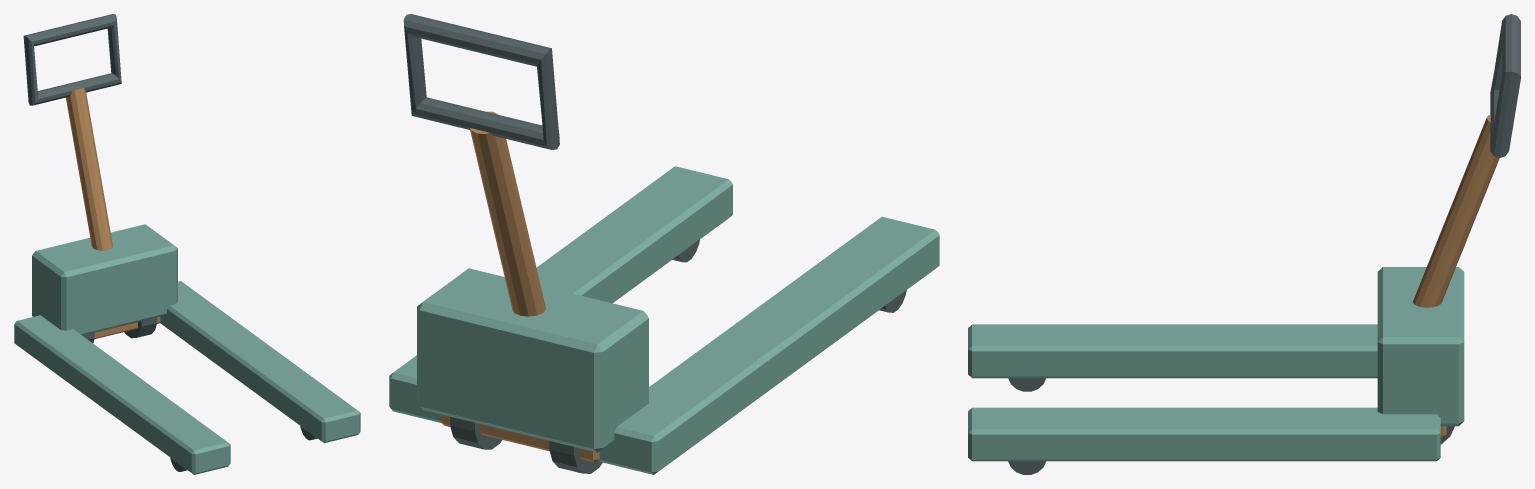
3 renders of one model, left to right at view 1: azimuth 30°, elevation 25°; view 2: azimuth 150°, elevation 25°; view 3: azimuth 270°, elevation 25°, orthographic. The views are drawn at different scales.
Parts seen in each view (by area): view 1: logistics-pallet-jack-01; view 2: logistics-pallet-jack-01; view 3: logistics-pallet-jack-01.
Part boxes in pixels (x1,y1,x2,y2): logistics-pallet-jack-01: [14, 14, 360, 474]; logistics-pallet-jack-01: [389, 14, 939, 474]; logistics-pallet-jack-01: [968, 14, 1520, 474].
Size of the model in its own units: 0.65 by 1.07 by 1.4.
